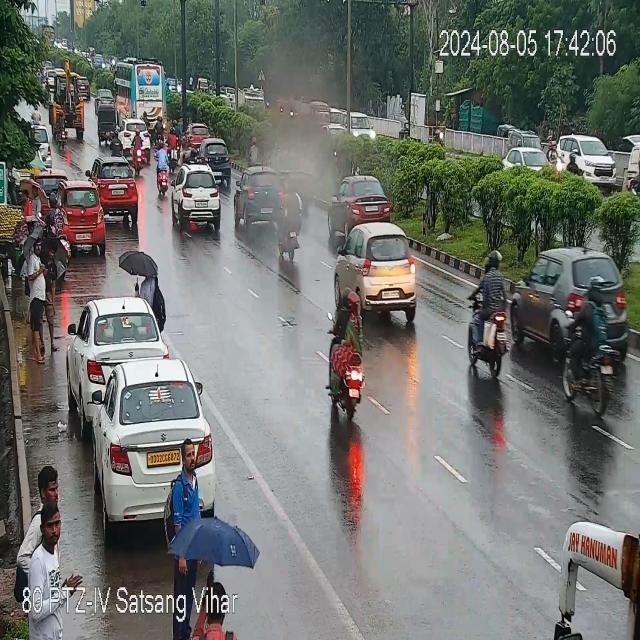2-wheelers: (562, 287, 618, 415), (464, 262, 513, 376), (326, 282, 366, 419), (275, 184, 305, 256), (130, 123, 149, 172), (156, 138, 168, 193), (152, 115, 165, 151), (168, 127, 178, 173)
auto: (96, 103, 121, 144)
bus: (114, 59, 166, 122)
car: (79, 356, 217, 522), (512, 252, 632, 346), (68, 298, 162, 398), (335, 223, 422, 322), (232, 168, 300, 229), (553, 134, 620, 184), (175, 170, 228, 232), (331, 178, 394, 229), (60, 185, 108, 247), (94, 160, 140, 216), (199, 139, 230, 176), (32, 124, 54, 174), (186, 122, 212, 149), (94, 90, 118, 108)
pedestrian: (168, 449, 204, 640), (28, 501, 72, 636), (25, 468, 70, 598), (188, 526, 238, 640), (128, 245, 166, 335), (23, 238, 49, 360), (21, 180, 42, 227)
truck: (48, 65, 91, 139)
